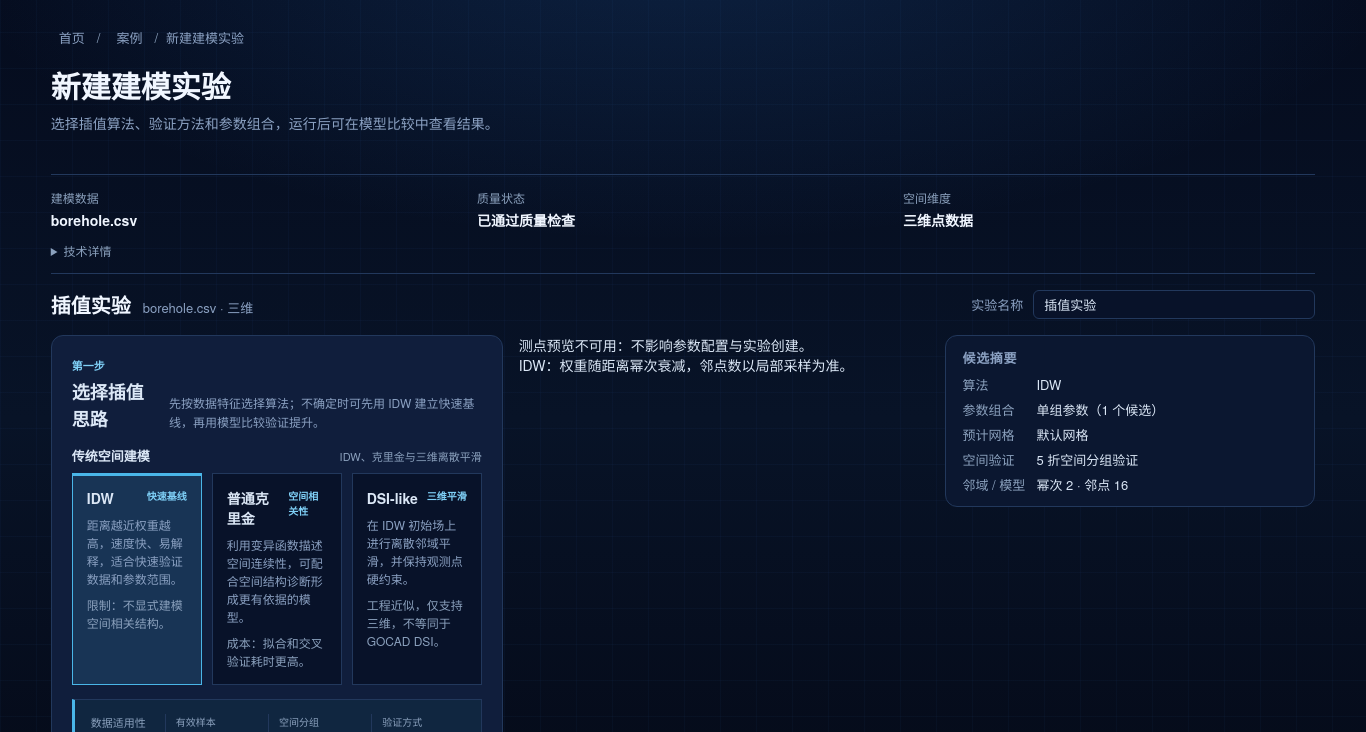
Test: 数据集入口与质量门禁 › 实验页 Kriging 模式显示建模依据，默认快速建模
This screenshot has width=1366, height=732.
Click the radio button with test id "algo-kriging": {"x": 277, "y": 578} top-left (212, 472), bottom-right (342, 684)
(page scrolled)
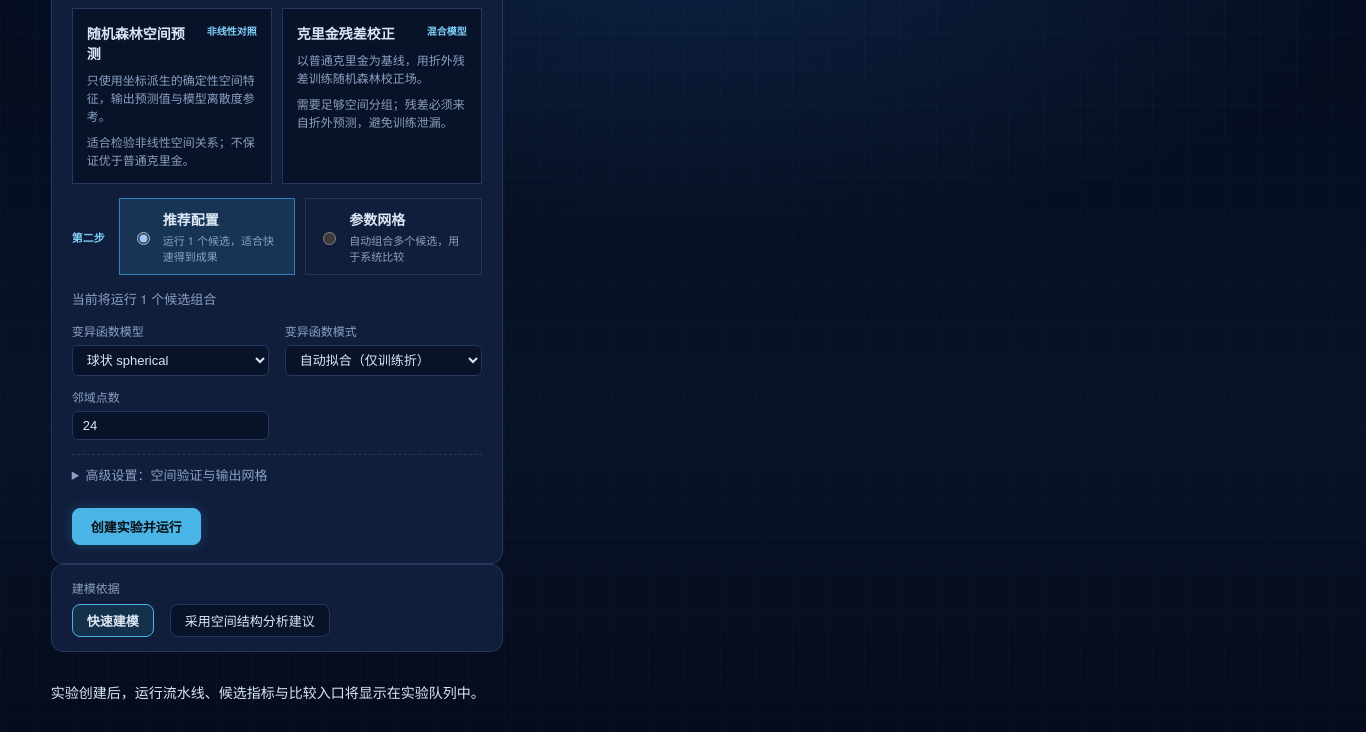
Result: the element with test id "kriging-basis" is shown at top-left (72, 579), bottom-right (330, 637)
No succeeded diagnosis: analysis option shows 开始空间结构分析
Click the radio button with test id "basis-analysis": {"x": 250, "y": 621} top-left (170, 604), bottom-right (330, 637)
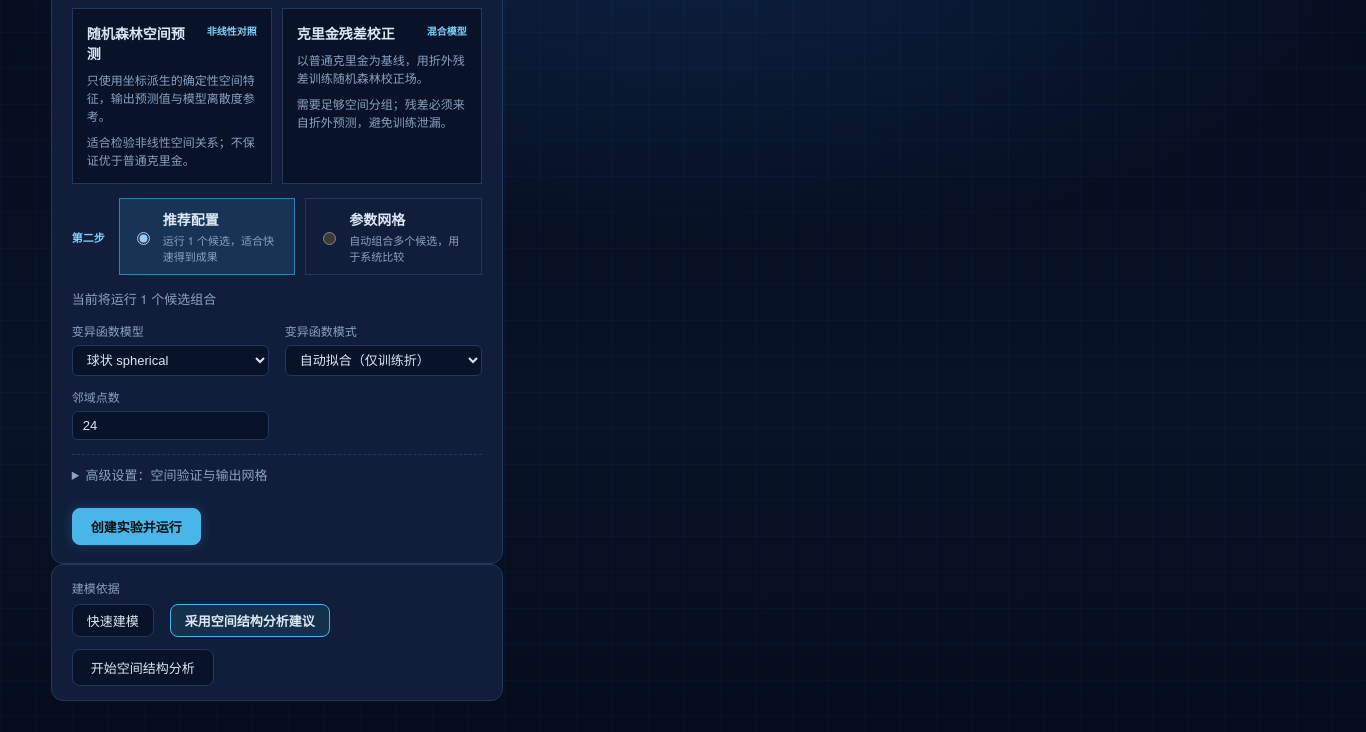
Result: the button with test id "spatial-analysis-entry" reads "开始空间结构分析" at top-left (72, 649), bottom-right (214, 686)
